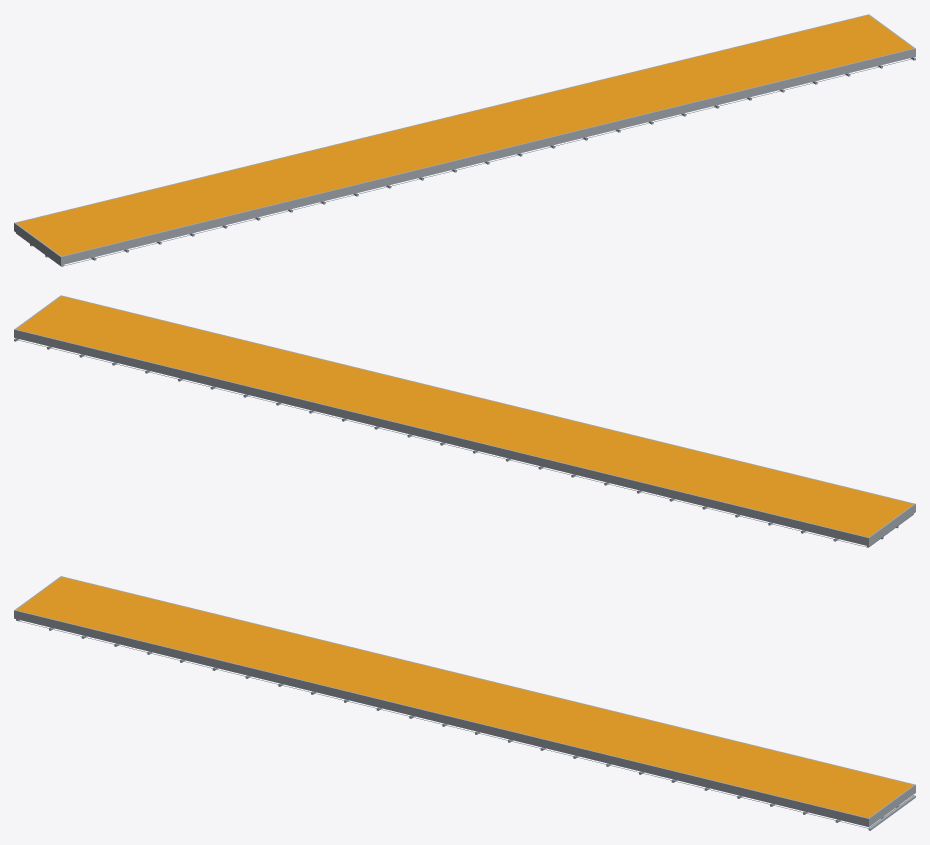
Rendered from bảng hiệu bạt lot tôn 1300 x 120.obj.
3 views of the same model, one above another, from view 1: azimuth 30°, elevation 25°; view 2: azimuth 150°, elevation 25°; view 3: azimuth 330°, elevation 25° (orthographic).
Parts seen in each view (by area): view 1: tam_nen_bang_hieu, vien_nep_alu, khung_xuong_sat_hop; view 2: tam_nen_bang_hieu, vien_nep_alu, khung_xuong_sat_hop; view 3: tam_nen_bang_hieu, vien_nep_alu, khung_xuong_sat_hop.
Boxes of the visible parts, left/top/right/bottom form: tam_nen_bang_hieu: left=16, top=15, right=913, bottom=256; vien_nep_alu: left=14, top=14, right=915, bottom=265; khung_xuong_sat_hop: left=16, top=57, right=915, bottom=266; tam_nen_bang_hieu: left=16, top=296, right=913, bottom=537; vien_nep_alu: left=14, top=295, right=915, bottom=546; khung_xuong_sat_hop: left=14, top=338, right=913, bottom=547; tam_nen_bang_hieu: left=16, top=577, right=913, bottom=817; vien_nep_alu: left=14, top=576, right=915, bottom=826; khung_xuong_sat_hop: left=16, top=619, right=915, bottom=830.
Size of the model in its own units: 13.05 by 0.18 by 1.24.
